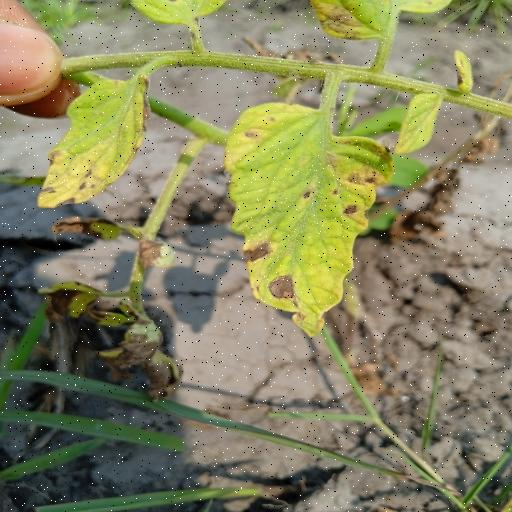Tomato_Brown_Spots: (216, 102, 398, 336), (37, 75, 153, 211)
